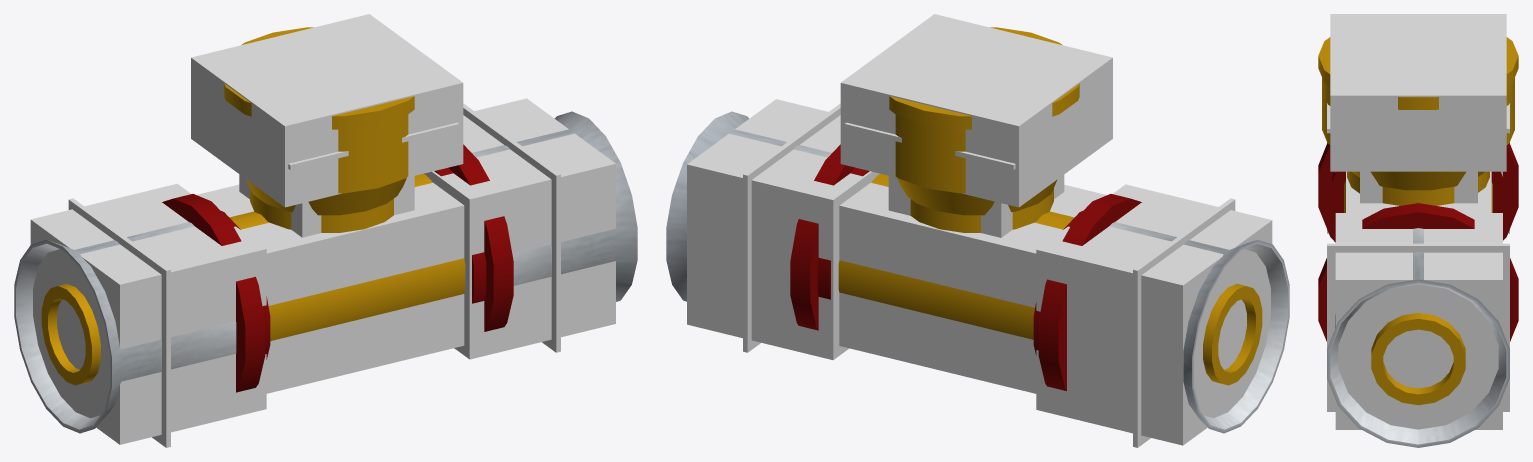
3 renders of one model, left to right at view 1: azimuth 30°, elevation 25°; view 2: azimuth 150°, elevation 25°; view 3: azimuth 270°, elevation 25°, orthographic. The views are drawn at different scales.
Parts seen in each view (by area): view 1: tronik_32х1(vn)х32_COL_, tronik_32х1х32_vn_, Box001_est_011, Box001_est_010, Box001_est_012; view 2: tronik_32х1(vn)х32_COL_, tronik_32х1х32_vn_, Box001_est_011, Box001_est_010, Box001_est_012; view 3: tronik_32х1(vn)х32_COL_, tronik_32х1х32_vn_, Box001_est_010, Box001_est_012.
Part boxes in pixels (x1,y1,x2,y2): tronik_32х1(vn)х32_COL_: (30,14,615,444); tronik_32х1х32_vn_: (14,27,637,433); Box001_est_011: (68,198,170,447); Box001_est_010: (463,103,560,352); Box001_est_012: (288,122,459,169); tronik_32х1(vn)х32_COL_: (687,14,1272,445); tronik_32х1х32_vn_: (666,27,1289,433); Box001_est_011: (1133,198,1235,447); Box001_est_010: (743,103,840,352); Box001_est_012: (844,122,1015,169); tronik_32х1(vn)х32_COL_: (1330,14,1506,429); tronik_32х1х32_vn_: (1318,37,1518,447); Box001_est_010: (1327,243,1509,411); Box001_est_012: (1327,103,1509,133).
Bounding box in the file's own units: 0.1119 × 0.061 × 0.0395.
Materials: 3 (1 with a texture image).
